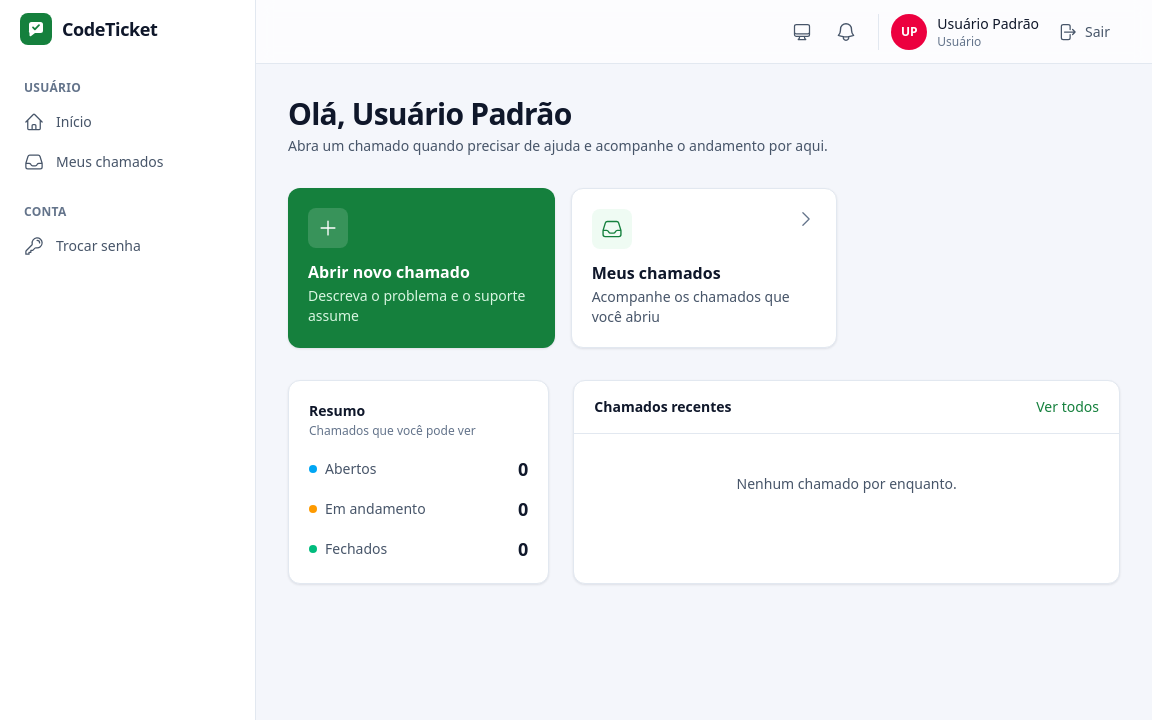
HomeView › opening a ticket without leaving the page › closes the dialog without opening anything when going back
Click the button "Abrir novo chamado": (421, 268) [288,188,555,348]
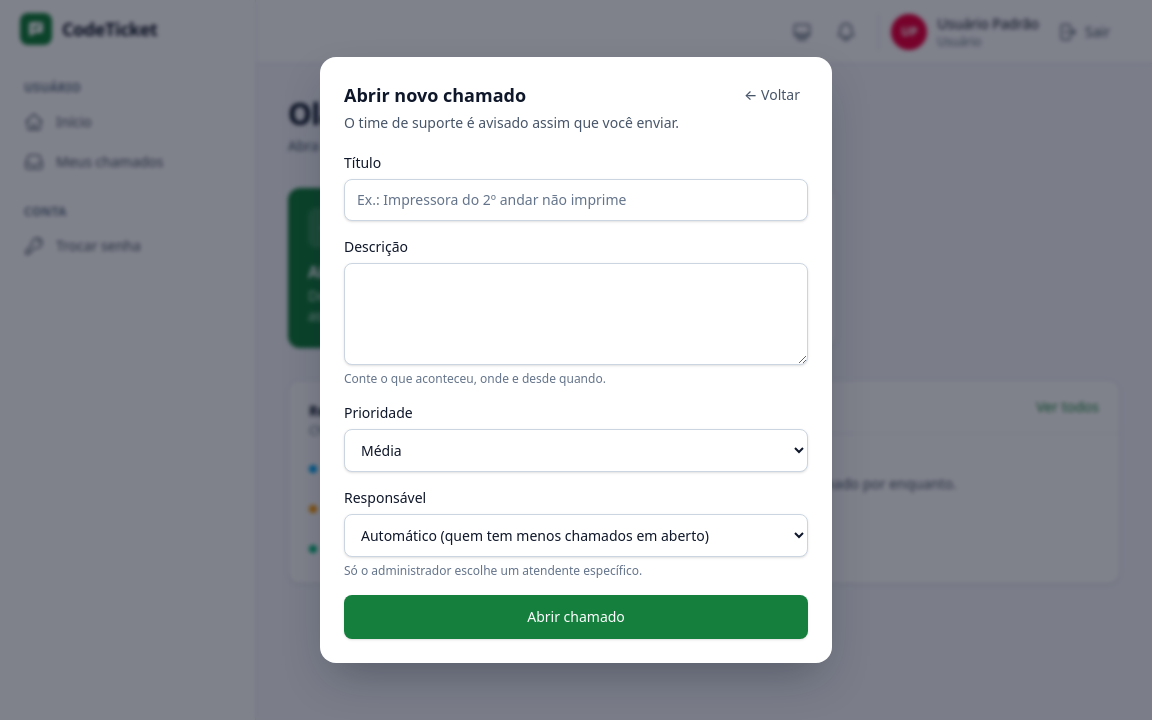
Click the button "← Voltar": (772, 95) [736,81,808,109]
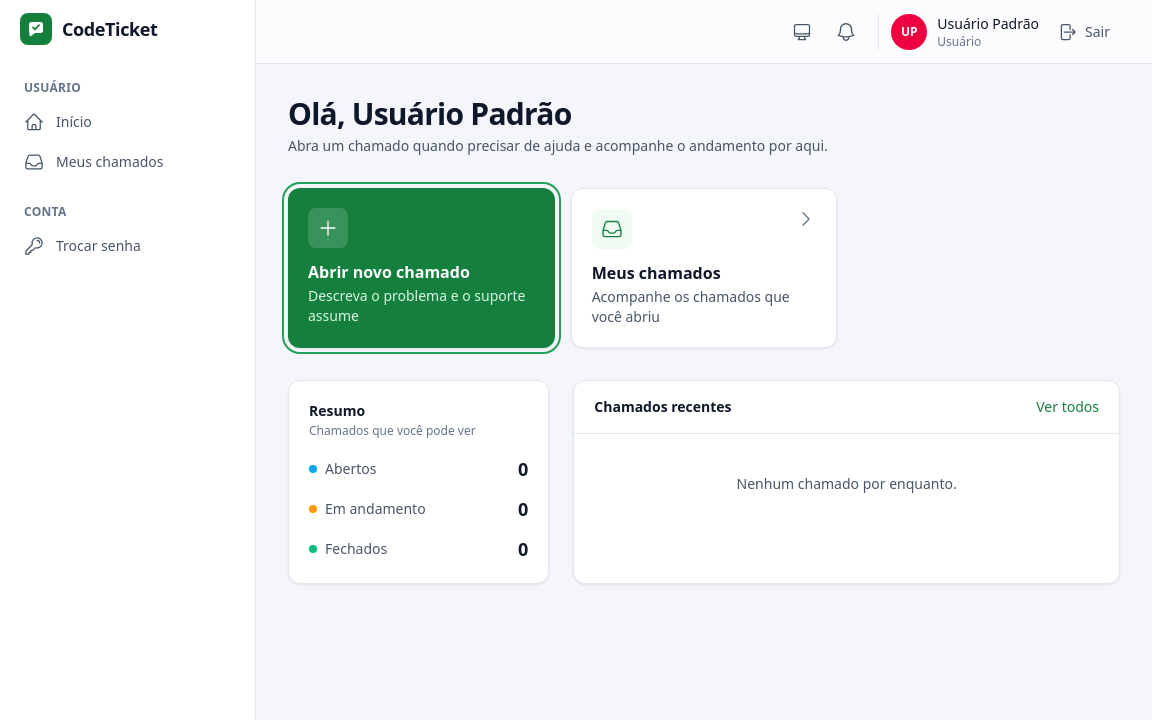
Result: the dialog is gone
